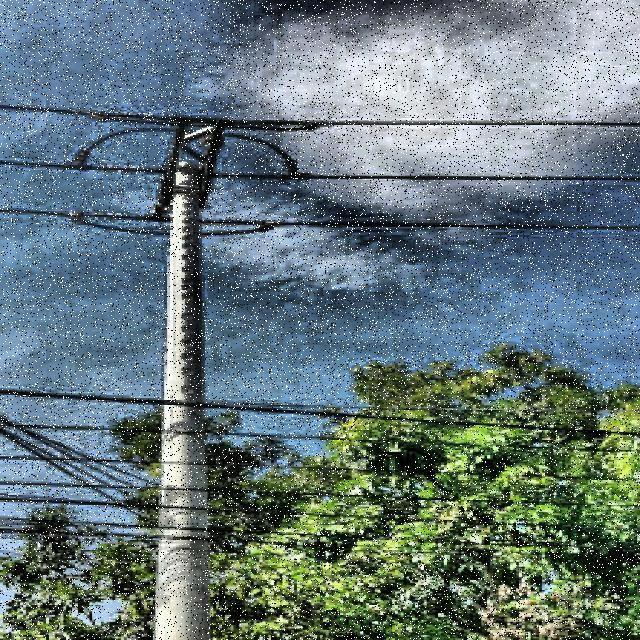crossarm: (155, 119, 195, 223), (206, 119, 234, 214)
pole: (151, 161, 211, 640)
wire: (0, 126, 640, 184), (5, 395, 640, 439), (0, 101, 640, 134), (0, 205, 640, 238)
